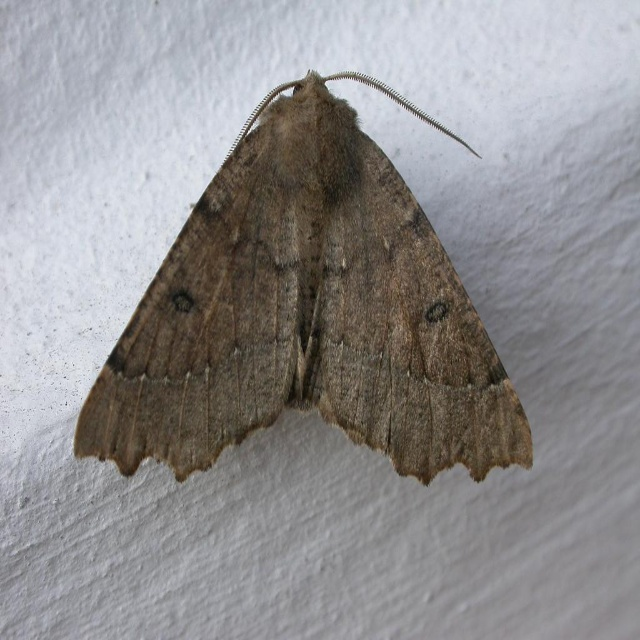Moths and butterflies: (74, 66, 534, 486)
